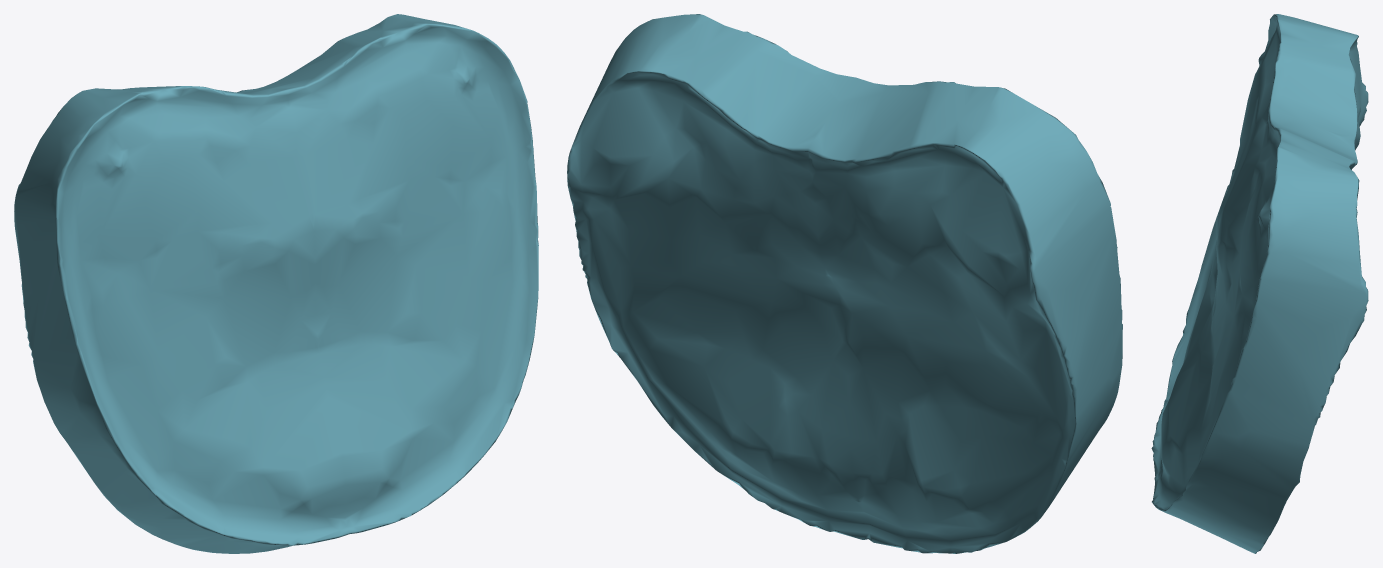
3 renders of one model, left to right at view 1: azimuth 30°, elevation 25°; view 2: azimuth 150°, elevation 25°; view 3: azimuth 270°, elevation 25°, orthographic. The views are drawn at different scales.
Visible parts, largest first — view 1: 胸11—胸12椎间盘; view 2: 胸11—胸12椎间盘; view 3: 胸11—胸12椎间盘.
Part boxes in pixels (box(x1,y1,x2,y2)): 胸11—胸12椎间盘: box(14, 14, 538, 553); 胸11—胸12椎间盘: box(567, 14, 1122, 553); 胸11—胸12椎间盘: box(1151, 14, 1368, 553).
Size of the model in its own units: 0.0623 by 0.0594 by 0.0266.
